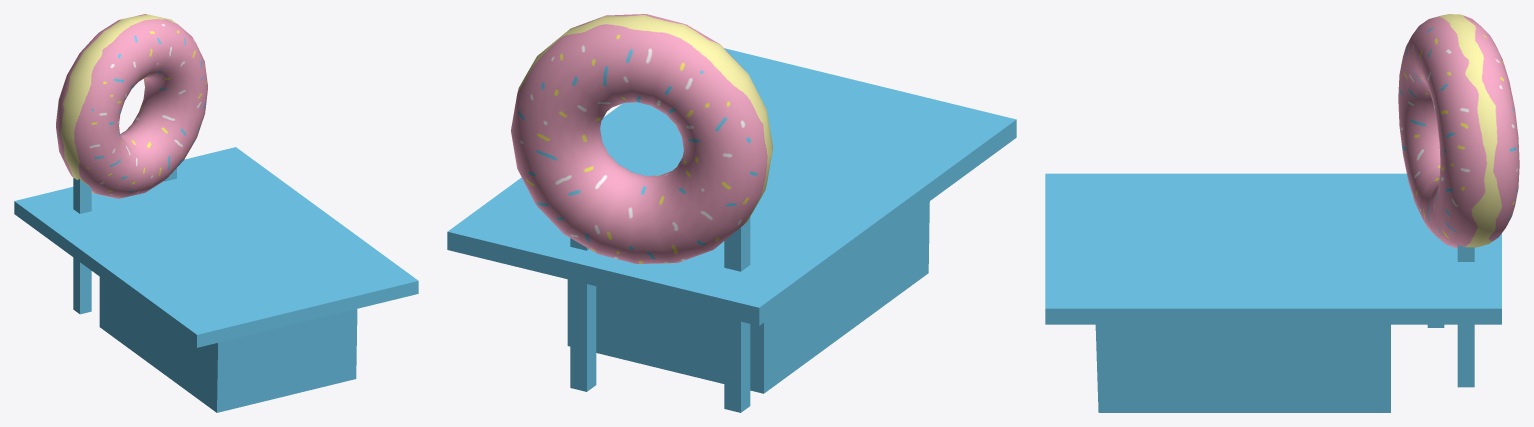
File: DonutShop.fbx
The picture shows the model from 3 angles, left to right: view 1: azimuth 30°, elevation 25°; view 2: azimuth 150°, elevation 25°; view 3: azimuth 270°, elevation 25°; orthographic projection. The views are drawn at different scales.
Parts seen in each view (by area): view 1: polySurface5; view 2: polySurface5; view 3: polySurface5.
Part boxes in pixels (bbox=[...]): polySurface5: bbox=[14, 14, 418, 412]; polySurface5: bbox=[447, 14, 1016, 412]; polySurface5: bbox=[1045, 14, 1519, 412].
Bounding box in the file's own units: 472 × 555 × 701.
Materials: 1 (1 with a texture image).
